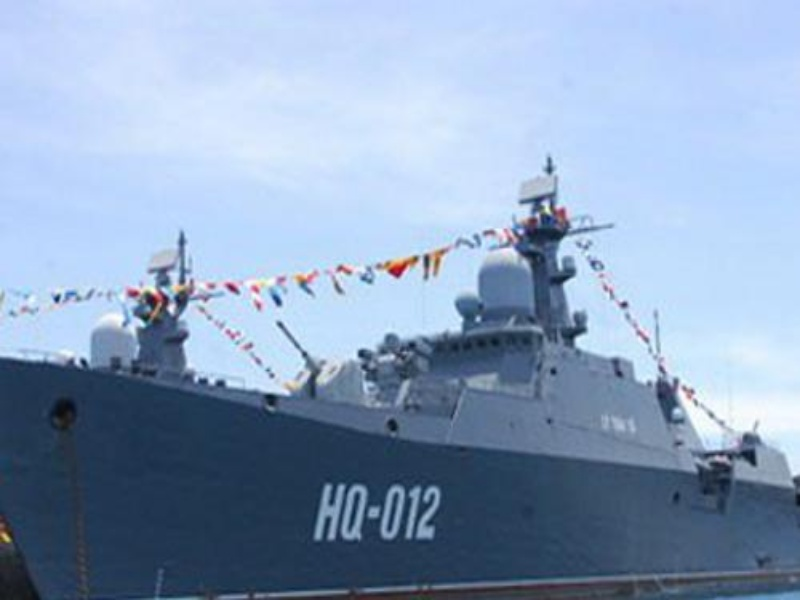cruise: (4, 226, 795, 589)
